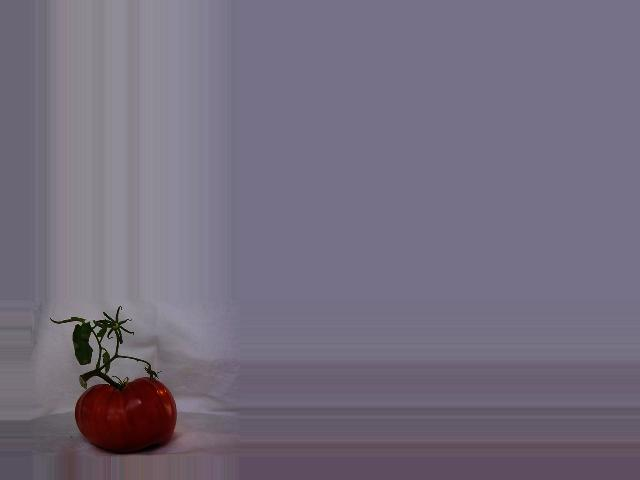tomato: (74, 377, 177, 453)
